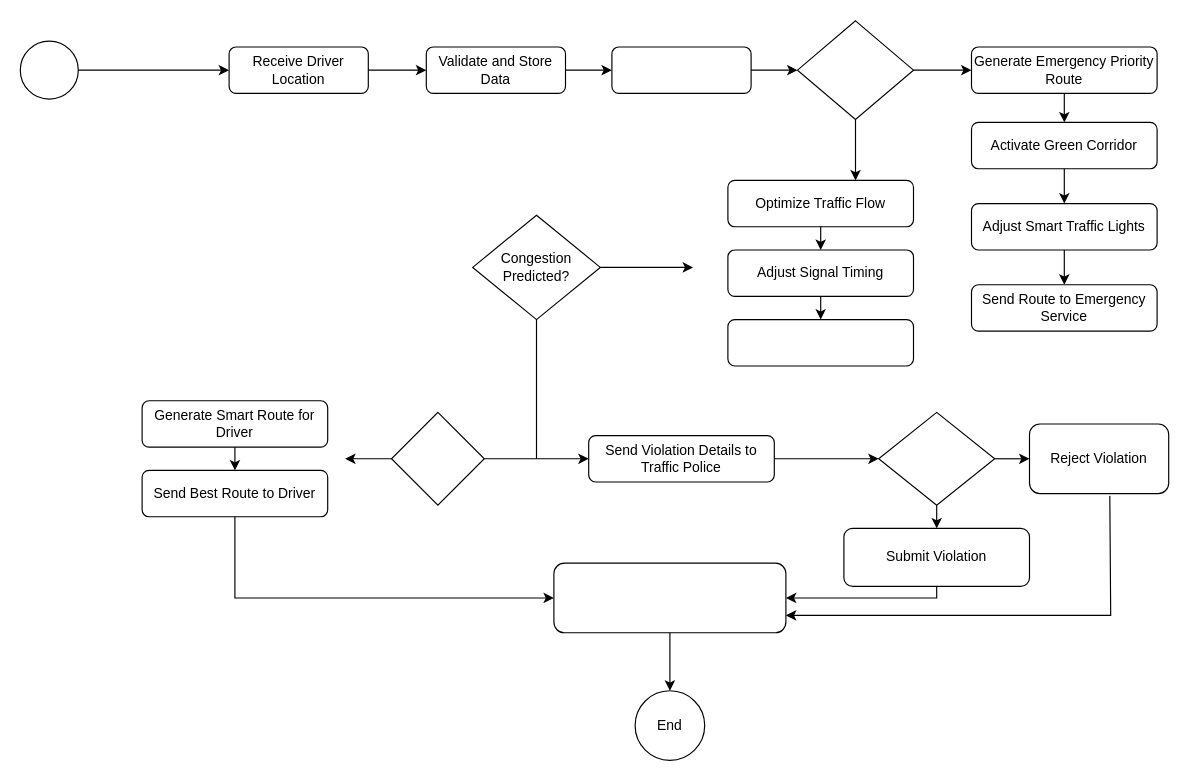
This 1189x781 diagram has some shape labels left out. Here are the shapes that lost their labels. From the top down, the centre of each, then its label:
At point (48, 69): "Start".
At point (681, 69): "AI Engine Analyzes Traffic Data".
At point (854, 69): "Emergency Request?".
At point (820, 342): "Send Congestion Alert to Drivers".
At point (437, 458): "Violation Detected?".
At point (936, 458): "Police Confirm?".
At point (669, 597): "Update Dashboard and Generate Report".
